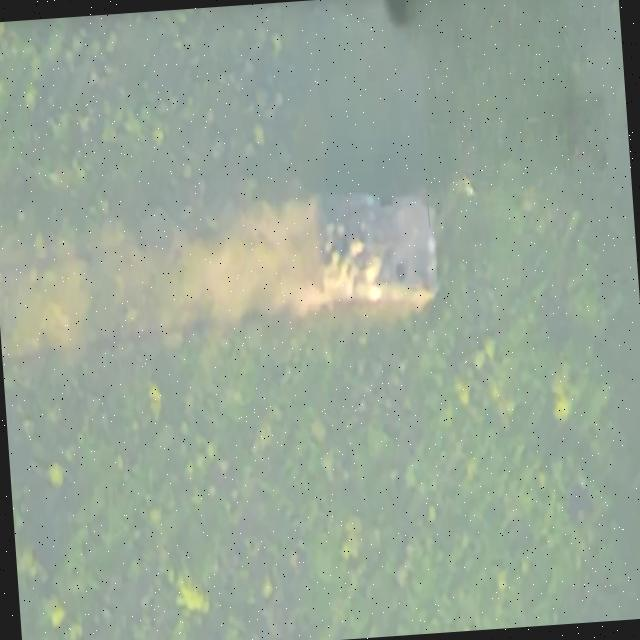AIFV: (311, 185, 443, 317)
